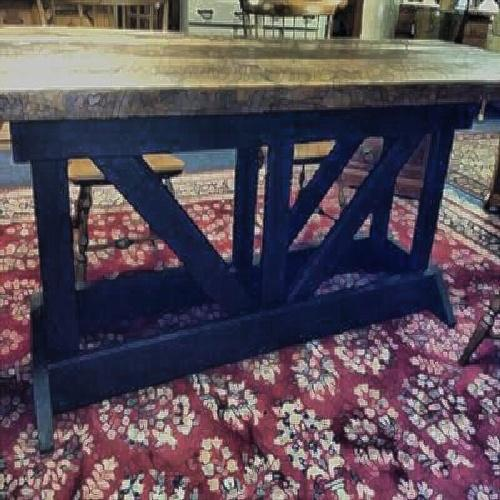table: (16, 29, 479, 375)
